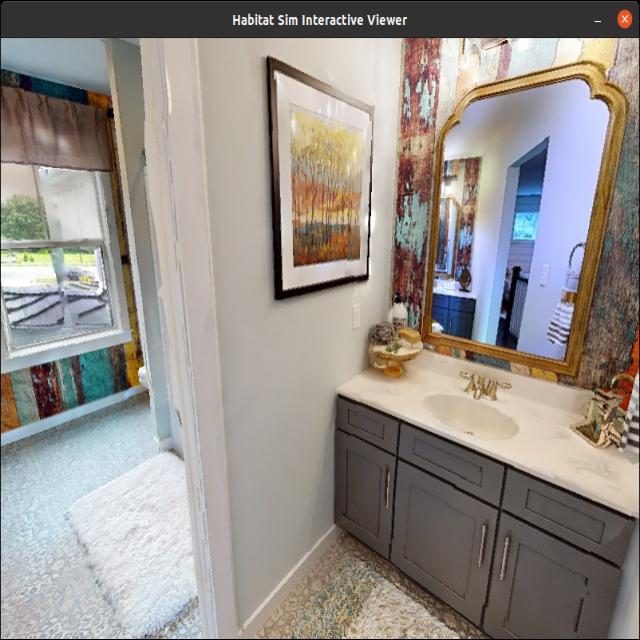door-frame: (0, 40, 244, 639)
sink: (350, 328, 603, 554)
